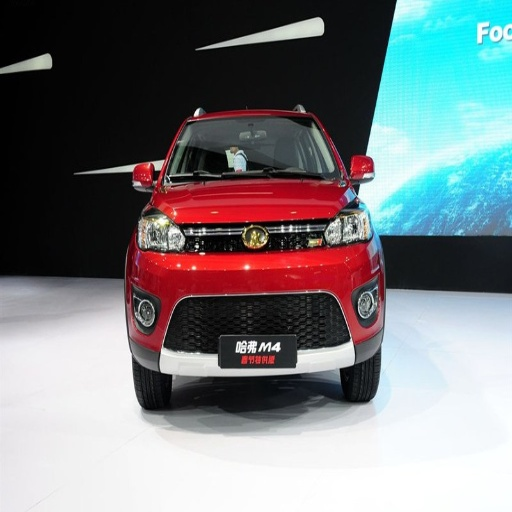front_bumper: (130, 218, 382, 377)
front_right_light: (135, 209, 190, 253)
hood: (152, 179, 355, 223)
